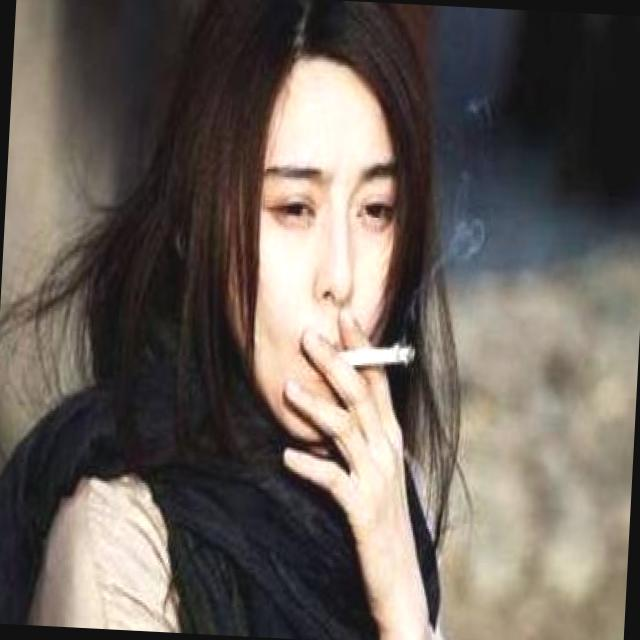cigarette: (320, 313, 432, 390)
